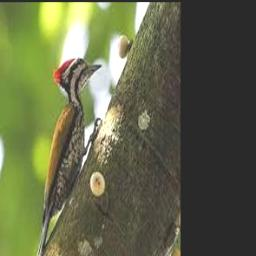Woodpecker: (36, 58, 102, 256)
